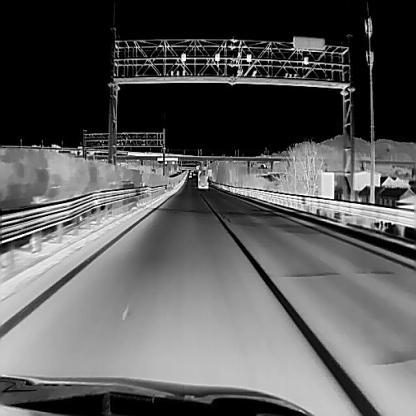car: (197, 169, 208, 188)
